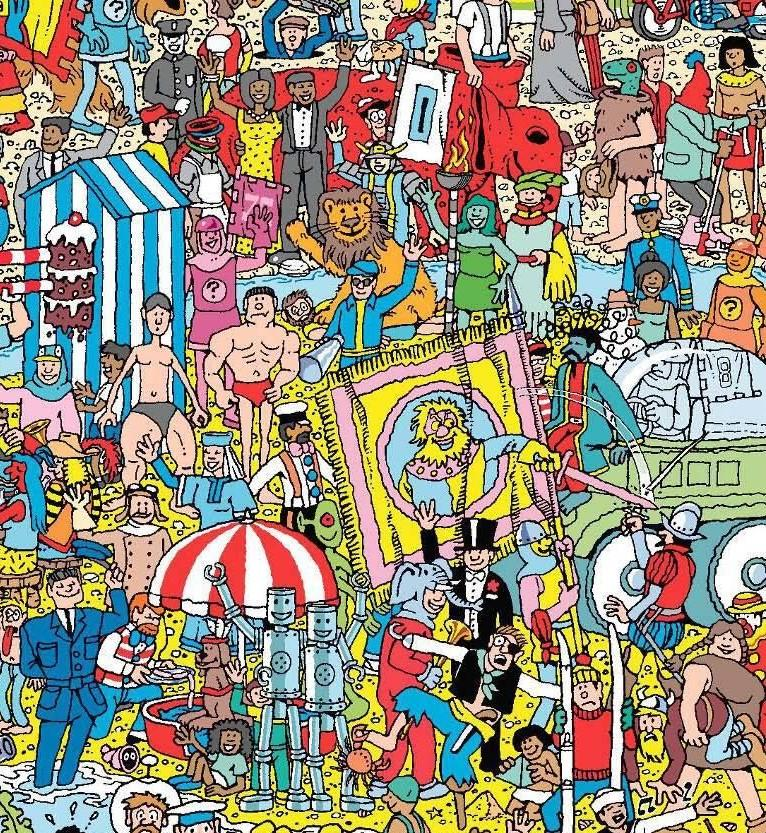waldo: (350, 86, 401, 144)
